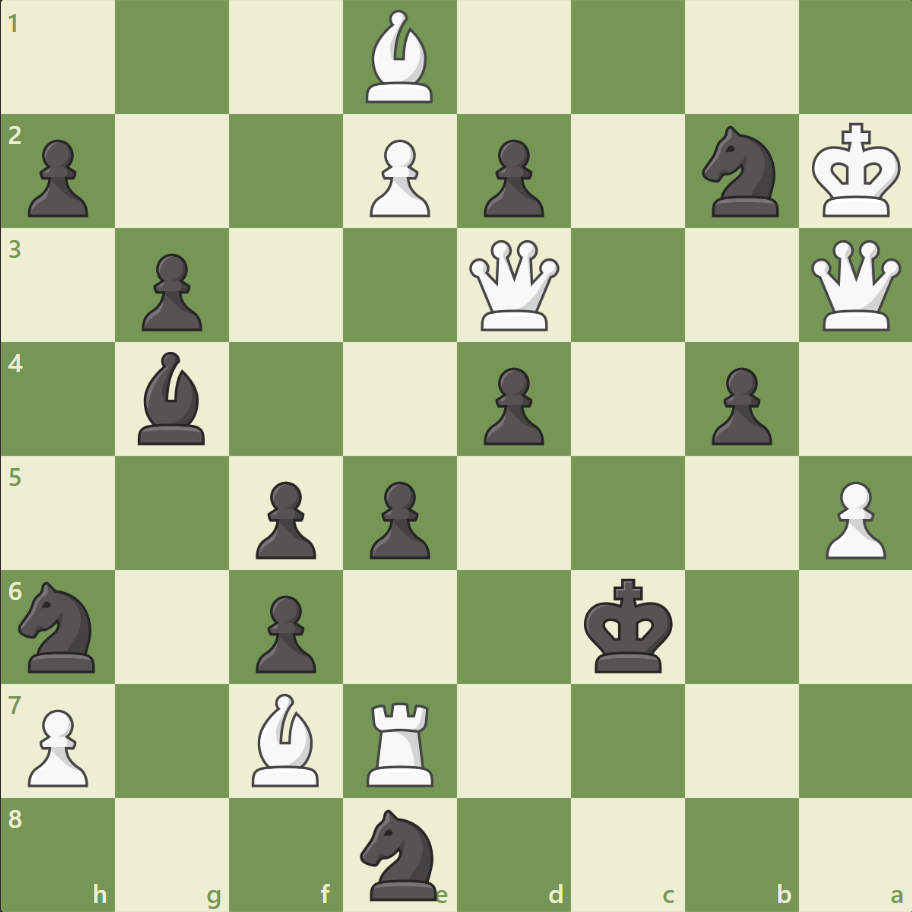B: (244, 687, 328, 790), (358, 6, 442, 109)
K: (806, 117, 906, 225)
P: (20, 700, 95, 791), (815, 473, 889, 564), (361, 132, 435, 223)
Q: (805, 236, 904, 335), (464, 236, 563, 335)
R: (360, 693, 442, 790)
b: (131, 347, 215, 449)
k: (579, 571, 679, 679)
n: (351, 802, 449, 904), (11, 575, 108, 677), (692, 121, 789, 223)
p: (247, 586, 322, 677), (247, 473, 322, 564), (701, 359, 776, 450), (474, 359, 549, 450), (133, 246, 208, 337), (474, 132, 549, 223), (20, 132, 95, 223), (361, 473, 435, 564)
